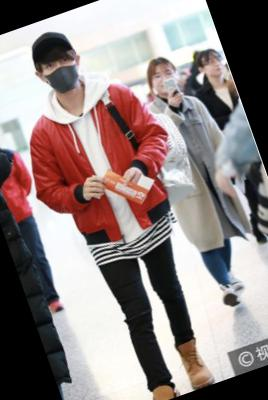with_mask: (41, 53, 85, 97)
without_mask: (152, 66, 180, 97), (202, 53, 228, 80)
